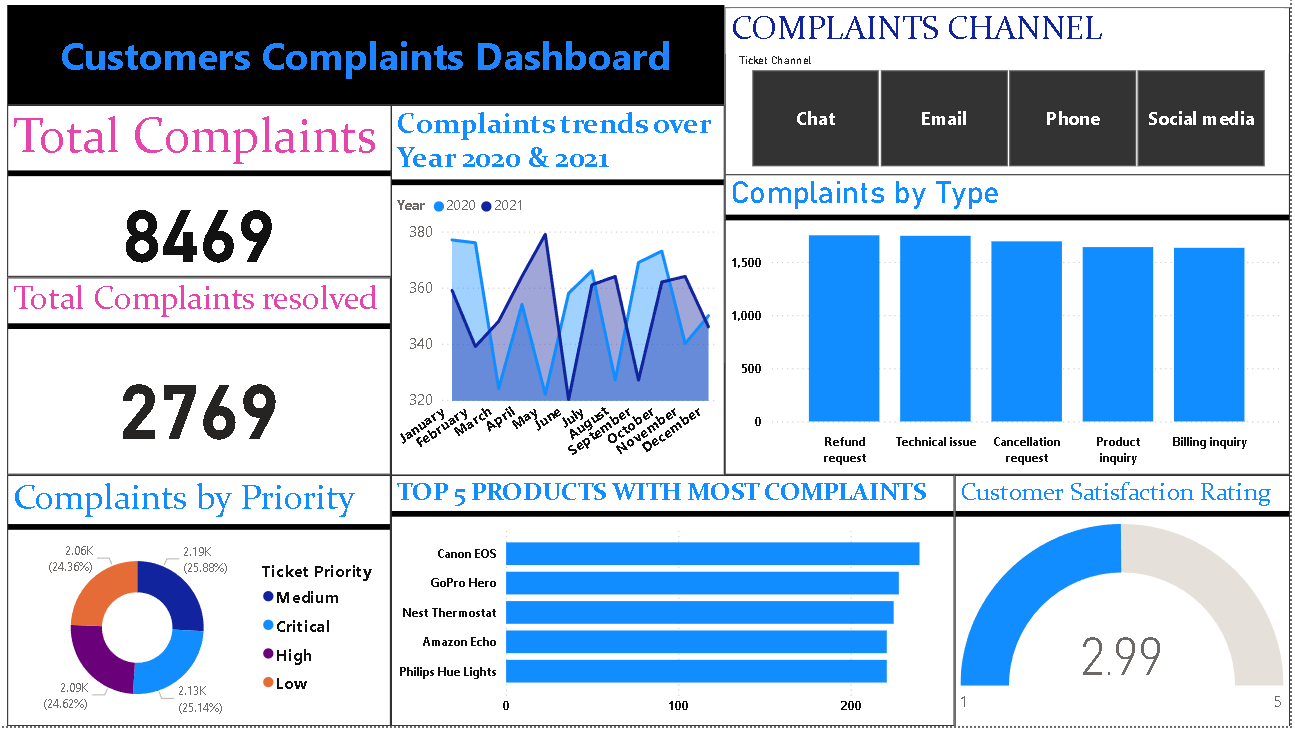

The page's visual inventory and layout, read from the dashboard file:
{"tool":"powerbi","page":{"name":" Customer_support_dashboard","canvas":[1280,720],"ordinal":0},"visuals":[{"type":"card","title":"Total Complaints","fields":{"Values":["CountNonNull(6 1-CustomerSupportTickets.Ticket ID)"]},"box":[25.5,112.7,375.7,168.3],"z":0},{"type":"card","title":"Total Complaints resolved","fields":{"Values":["CountNonNull(6 1-CustomerSupportTickets.Ticket ID)"]},"box":[25.6,281.7,375.1,192.8],"z":1},{"type":"areaChart","title":"Complaints trends over Year 2020 & 2021","fields":{"Category":["6 1-CustomerSupportTickets.Date of Purchase.Variation.Date Hierarchy.Month"],"Y":["CountNonNull(6 1-CustomerSupportTickets.Ticket ID)"],"Series":["6 1-CustomerSupportTickets.Date of Purchase.Variation.Date Hierarchy.Year"]},"box":[401.2,112.7,326.1,362.2],"z":2},{"type":"clusteredColumnChart","title":"Complaints by Type","fields":{"Category":["6 1-CustomerSupportTickets.Ticket Type"],"Y":["CountNonNull(6 1-CustomerSupportTickets.Ticket ID)"]},"box":[727.3,180.3,553,294.5],"z":3},{"type":"donutChart","title":"Complaints by Priority ","fields":{"Category":["6 1-CustomerSupportTickets.Ticket Priority"],"Y":["CountNonNull(6 1-CustomerSupportTickets.Ticket ID)"]},"box":[25.6,474.5,375.1,245.5],"z":4},{"type":"barChart","title":"TOP 5 PRODUCTS  WITH MOST COMPLAINTS","fields":{"Category":["6 1-CustomerSupportTickets.Product Purchased"],"Y":["CountNonNull(6 1-CustomerSupportTickets.Ticket ID)"]},"box":[400.7,474.5,551.3,245.5],"z":5},{"type":"gauge","title":"Customer Satisfaction Rating","fields":{"Y":["Avg(6 1-CustomerSupportTickets.Customer Satisfaction Rating)"],"MinValue":["Min(6 1-CustomerSupportTickets.Customer Satisfaction Rating)"],"MaxValue":["Max(6 1-CustomerSupportTickets.Customer Satisfaction Rating)1"]},"box":[952,474,328,246],"z":6},{"type":"textbox","box":[25.6,15.1,701.9,97.9],"z":7},{"type":"slicer","title":"COMPLAINTS CHANNEL ","fields":{"Values":["6 1-CustomerSupportTickets.Ticket Channel"]},"box":[727.3,16.5,553,163.8],"z":8}]}

Visuals, with their boxes in screenshot pixels (x1, y1, x2, y2), scaled from the page's 1280x720 canvas onto the 1295x732 screenshot:
"Total Complaints" card: rect(26, 115, 406, 286)
"Total Complaints resolved" card: rect(26, 286, 405, 482)
"Complaints trends over Year 2020 & 2021" areaChart: rect(406, 115, 736, 483)
"Complaints by Type" clusteredColumnChart: rect(736, 183, 1294, 483)
"Complaints by Priority " donutChart: rect(26, 482, 405, 731)
"TOP 5 PRODUCTS  WITH MOST COMPLAINTS" barChart: rect(405, 482, 963, 731)
"Customer Satisfaction Rating" gauge: rect(963, 482, 1294, 731)
textbox: rect(26, 15, 736, 115)
"COMPLAINTS CHANNEL " slicer: rect(736, 17, 1294, 183)
